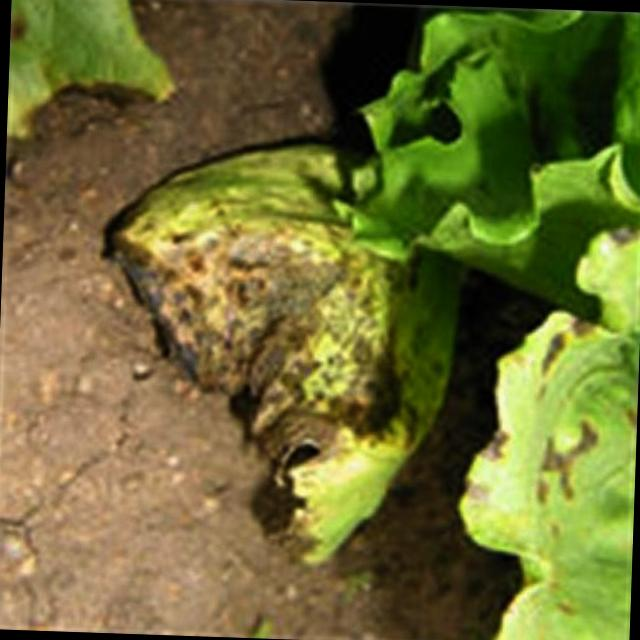Bacterial: (196, 205, 418, 380)
